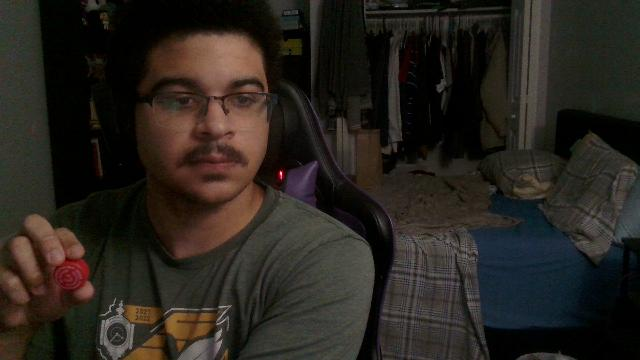cap: (54, 256, 88, 289)
